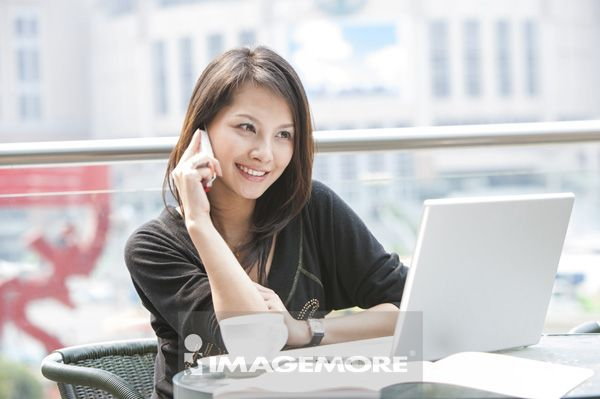talk: (171, 107, 295, 243)
